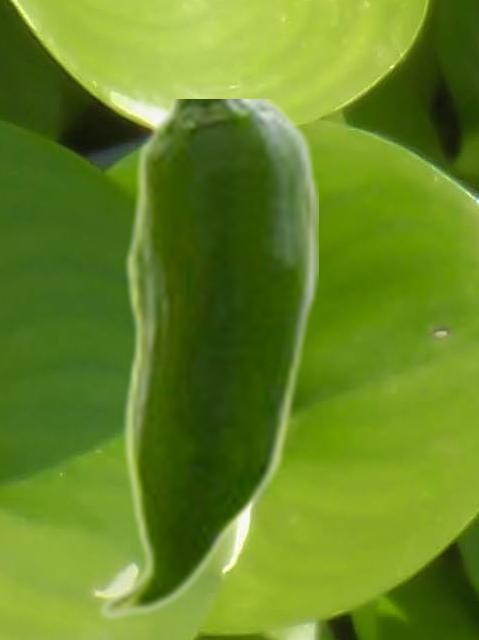green_chili: (95, 99, 317, 621)
